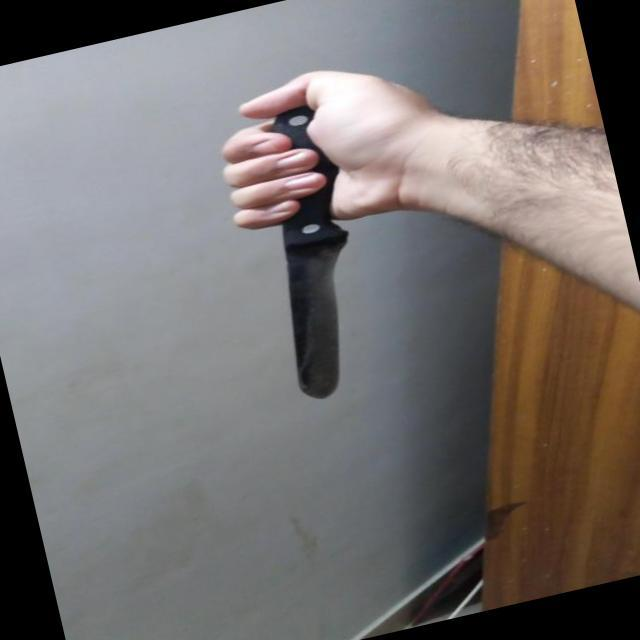Knife: (202, 59, 444, 416)
